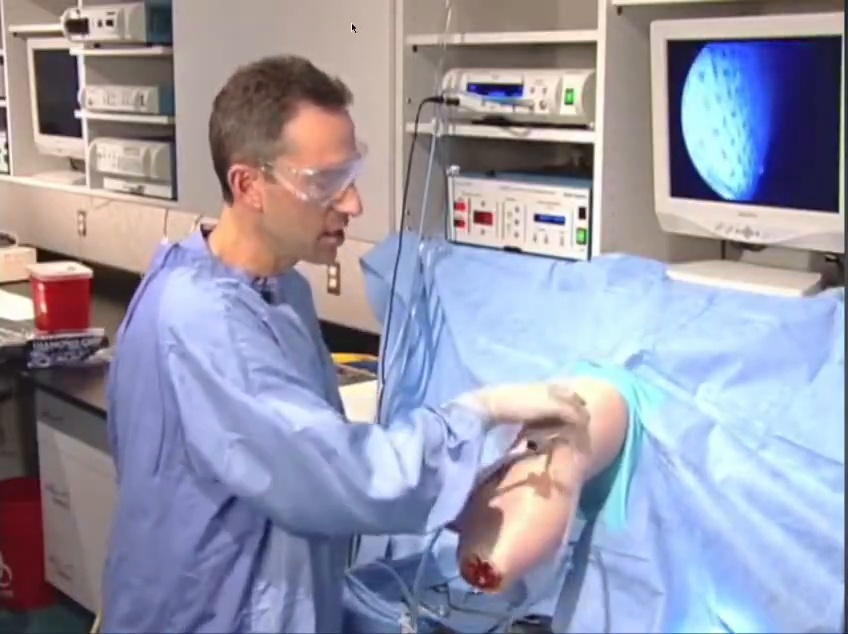probe: (333, 520, 407, 623), (680, 581, 765, 634)
